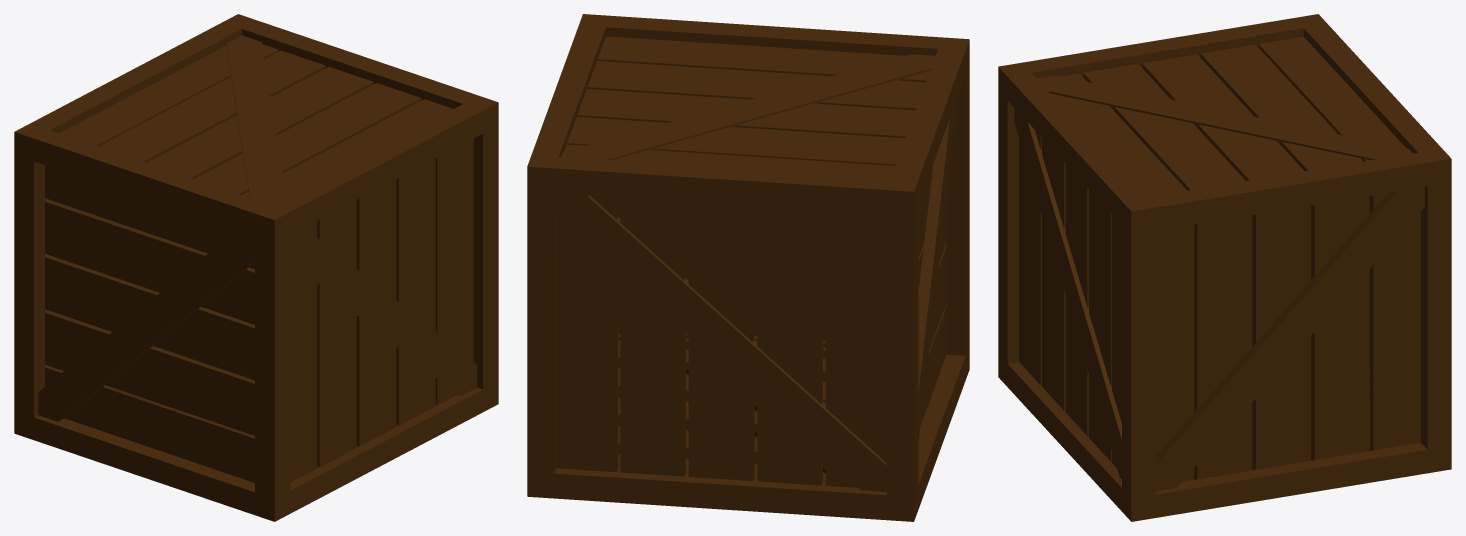
The picture shows the model from 3 angles, left to right: view 1: azimuth 30°, elevation 25°; view 2: azimuth 150°, elevation 25°; view 3: azimuth 270°, elevation 25°; orthographic projection. The views are drawn at different scales.
Visible parts, largest first — view 1: Box; view 2: Box; view 3: Box.
Boxes of the visible parts, x1,y1,x2,y2 form: Box: (14, 14, 498, 521); Box: (527, 14, 969, 521); Box: (998, 14, 1451, 521).
Bounding box in the file's own units: 77.72 × 56.95 × 75.42.
